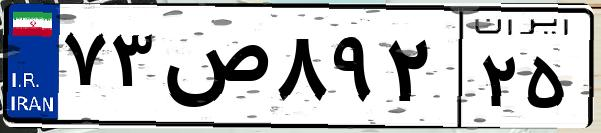2: (385, 28, 445, 110), (475, 38, 525, 113)
3: (110, 28, 158, 98)
5: (525, 38, 570, 115)
7: (57, 26, 110, 100)
8: (270, 28, 330, 110)
9: (330, 28, 385, 110)
ص: (158, 20, 270, 120)
